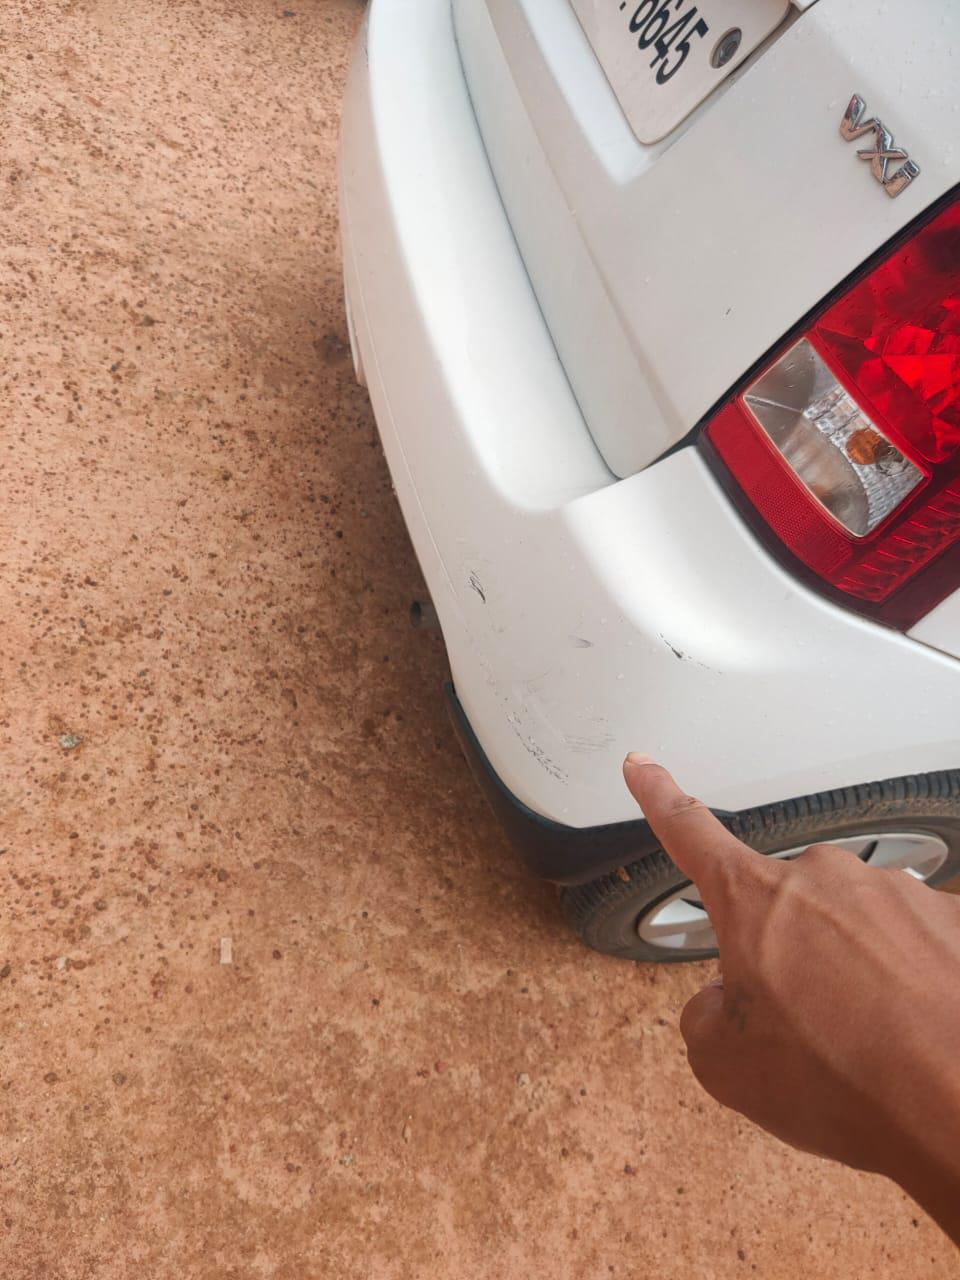rear-bumper-dent: (421, 486, 795, 893)
